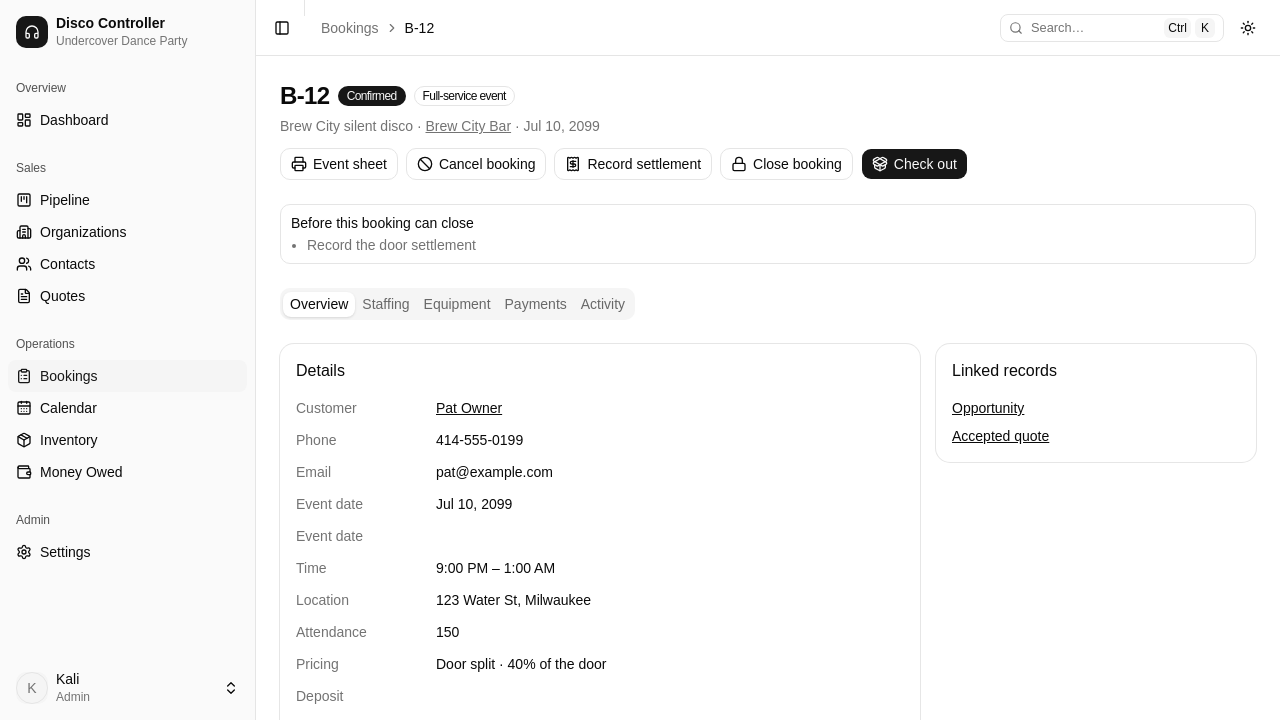
Scenario: booking pages › records a door settlement from the booking page
Expected: the list named "Close blockers" reads "Record the door settlement", [307,237,476,253]
Click the button "Record settlement" at (633,164), box [554,148,712,180]
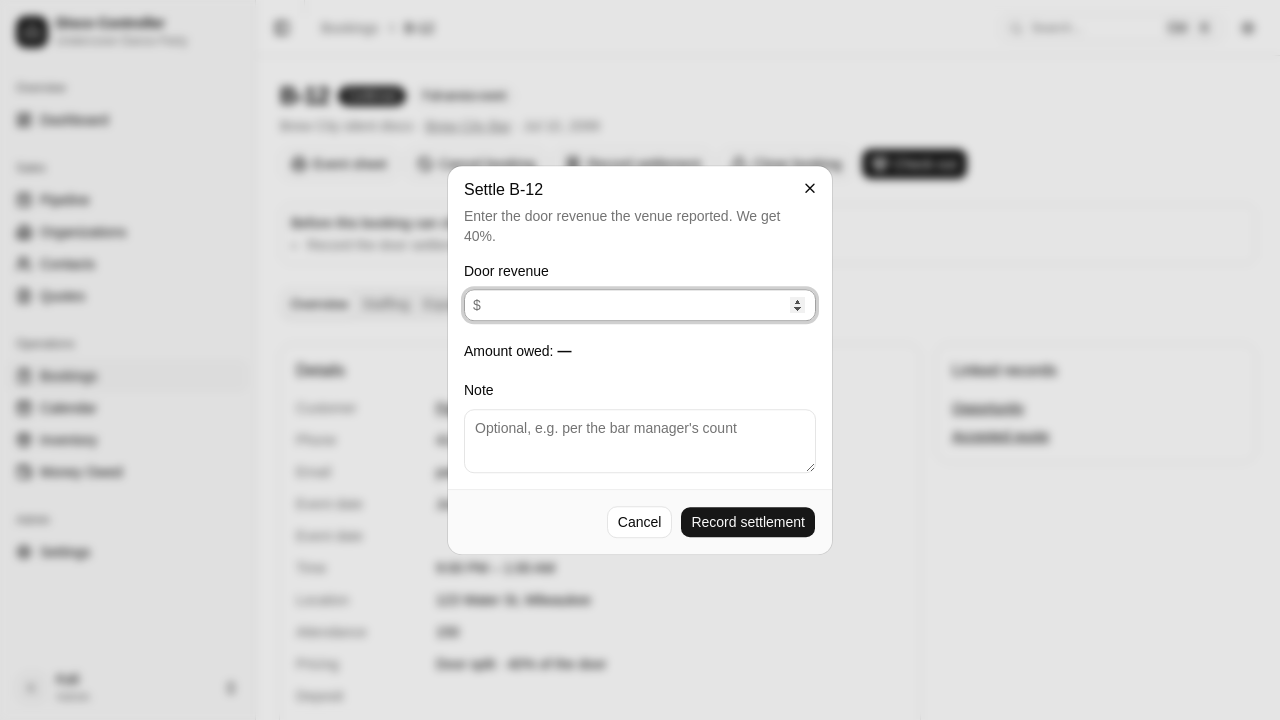
Type "1500" into the number field labelled "Door revenue" at (648,306), box [481,290,815,322]
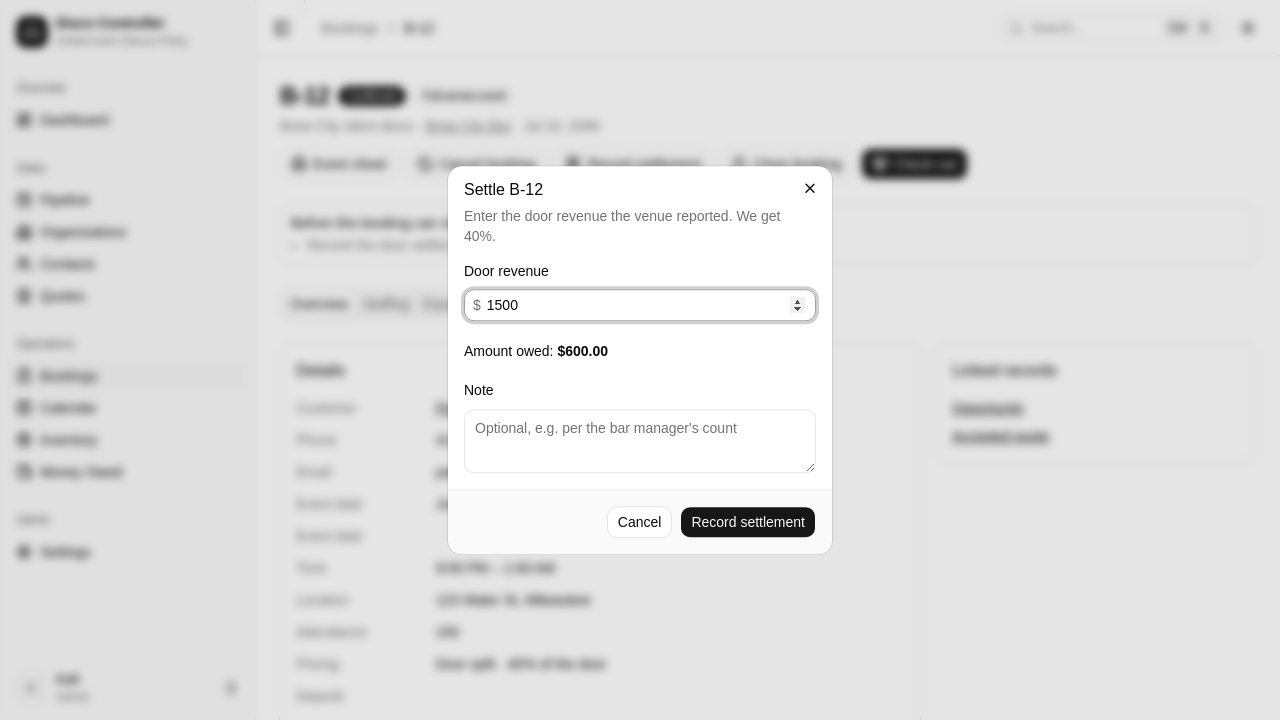
Result: the dialog shows "Amount owed: $600.00" at [448,166,832,554]
Click the button "Record settlement" at (748,522), box [680,506,816,538]
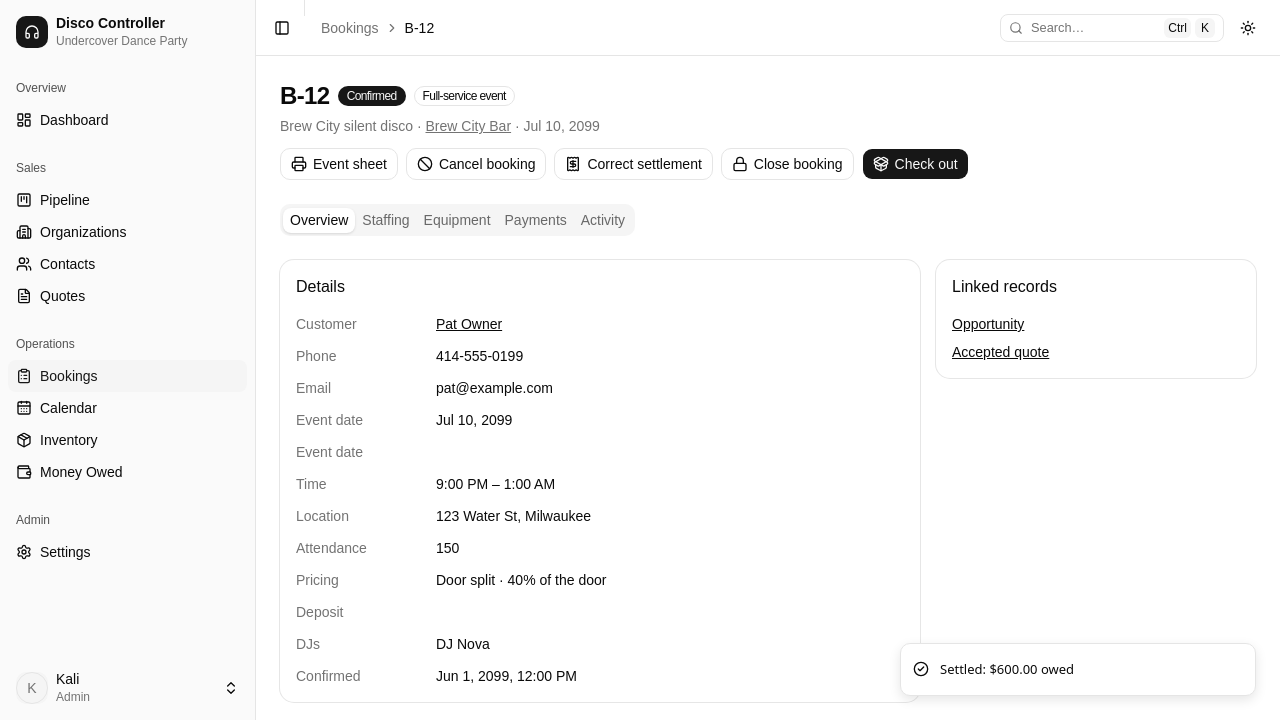
Result: the dialog is gone
